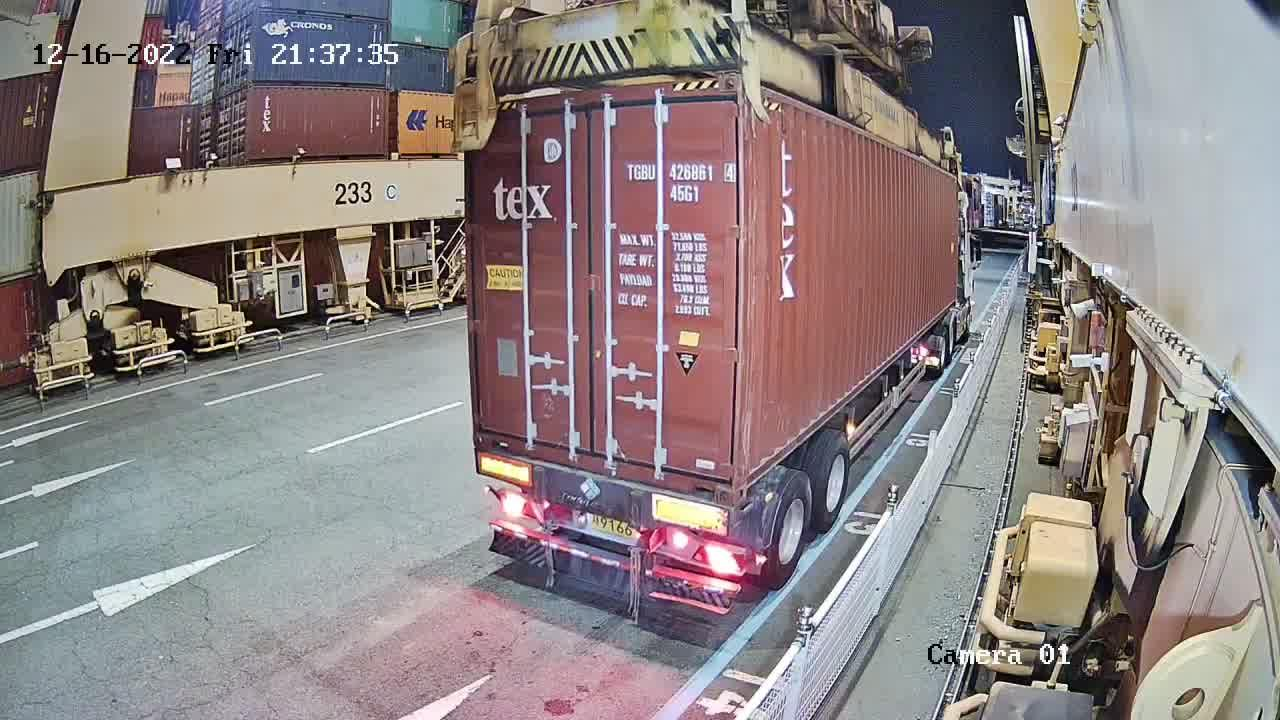Chassis: (472, 453, 733, 547)
Container: (470, 413, 735, 507)
Hole_L: (735, 450, 765, 507), (472, 411, 508, 455)
Hole_R: (700, 454, 736, 506)
Tire: (766, 473, 813, 593), (812, 435, 853, 540)
